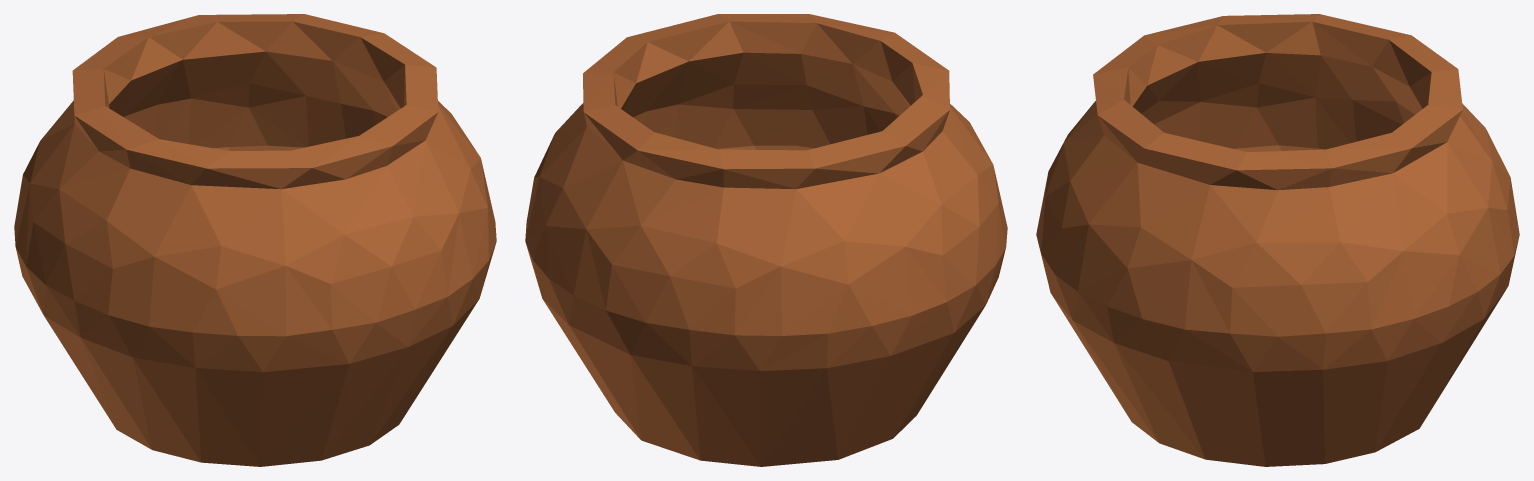
Rendered from Pottery 3_1.fbx.
The picture shows the model from 3 angles, left to right: view 1: azimuth 30°, elevation 25°; view 2: azimuth 150°, elevation 25°; view 3: azimuth 270°, elevation 25°; orthographic projection.
Parts seen in each view (by area): view 1: Pottery 3_1; view 2: Pottery 3_1; view 3: Pottery 3_1.
Part boxes in pixels (x1,y1,x2,y2): Pottery 3_1: [14, 14, 496, 466]; Pottery 3_1: [525, 14, 1007, 466]; Pottery 3_1: [1036, 14, 1519, 466].
Bounding box in the file's own units: 72.77 × 52.42 × 72.77.
